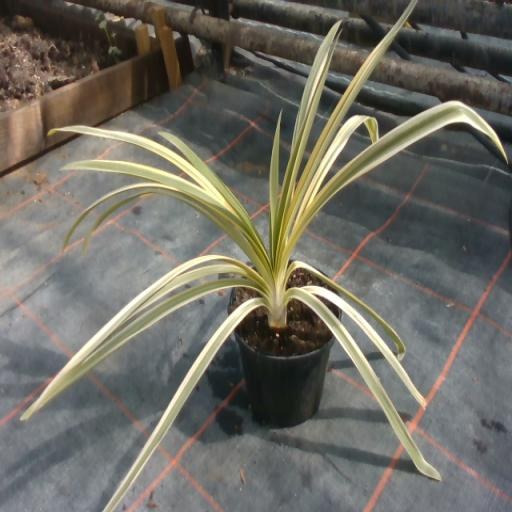Agapanthus-praecox: (22, 255, 255, 419), (283, 101, 506, 257), (103, 300, 262, 511), (105, 300, 262, 511), (282, 0, 417, 242), (25, 278, 248, 418), (291, 289, 440, 479), (64, 160, 269, 265), (304, 287, 425, 404), (84, 190, 258, 266), (272, 50, 334, 263), (48, 126, 226, 199), (298, 262, 404, 359), (164, 132, 251, 225), (62, 182, 178, 250), (299, 115, 378, 213), (128, 263, 258, 318), (292, 21, 340, 144), (270, 127, 278, 258)
